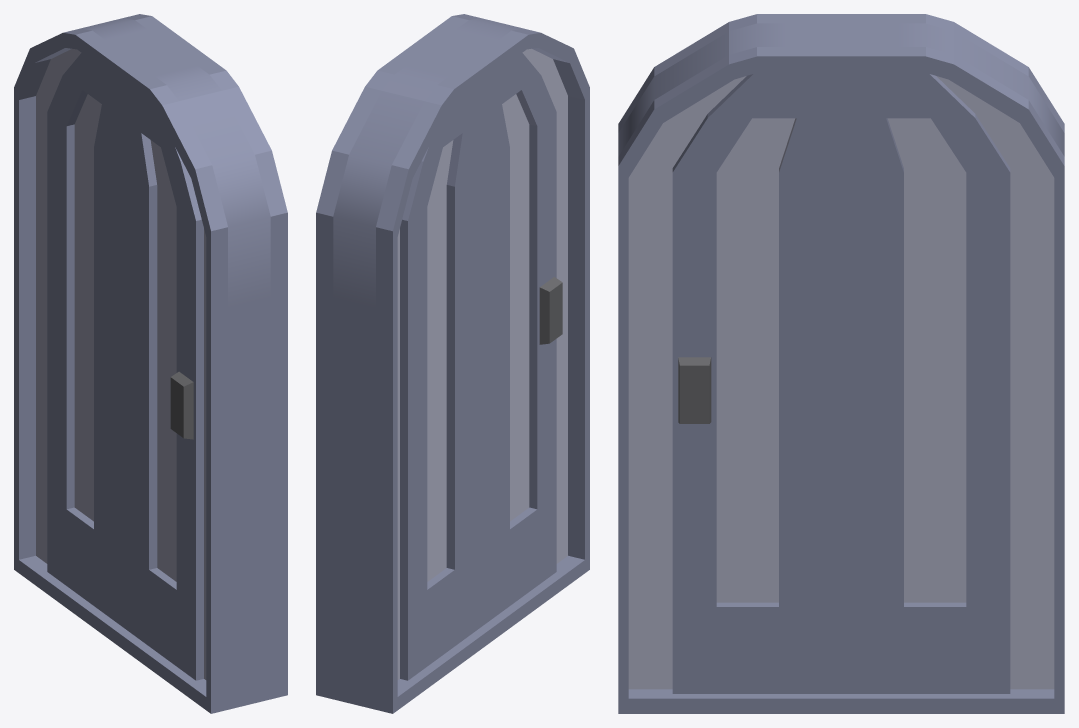
Rendered from door.fbx.
3 renders of one model, left to right at view 1: azimuth 30°, elevation 25°; view 2: azimuth 150°, elevation 25°; view 3: azimuth 270°, elevation 25°, orthographic. The views are drawn at different scales.
Visible parts, largest first — view 1: pCube1; view 2: pCube1; view 3: pCube1.
Boxes of the visible parts, bbox=[...] form: pCube1: bbox=[14, 14, 287, 713]; pCube1: bbox=[316, 14, 589, 713]; pCube1: bbox=[618, 14, 1064, 713].
Bounding box in the file's own units: 0.5759 × 4.14 × 2.55.
